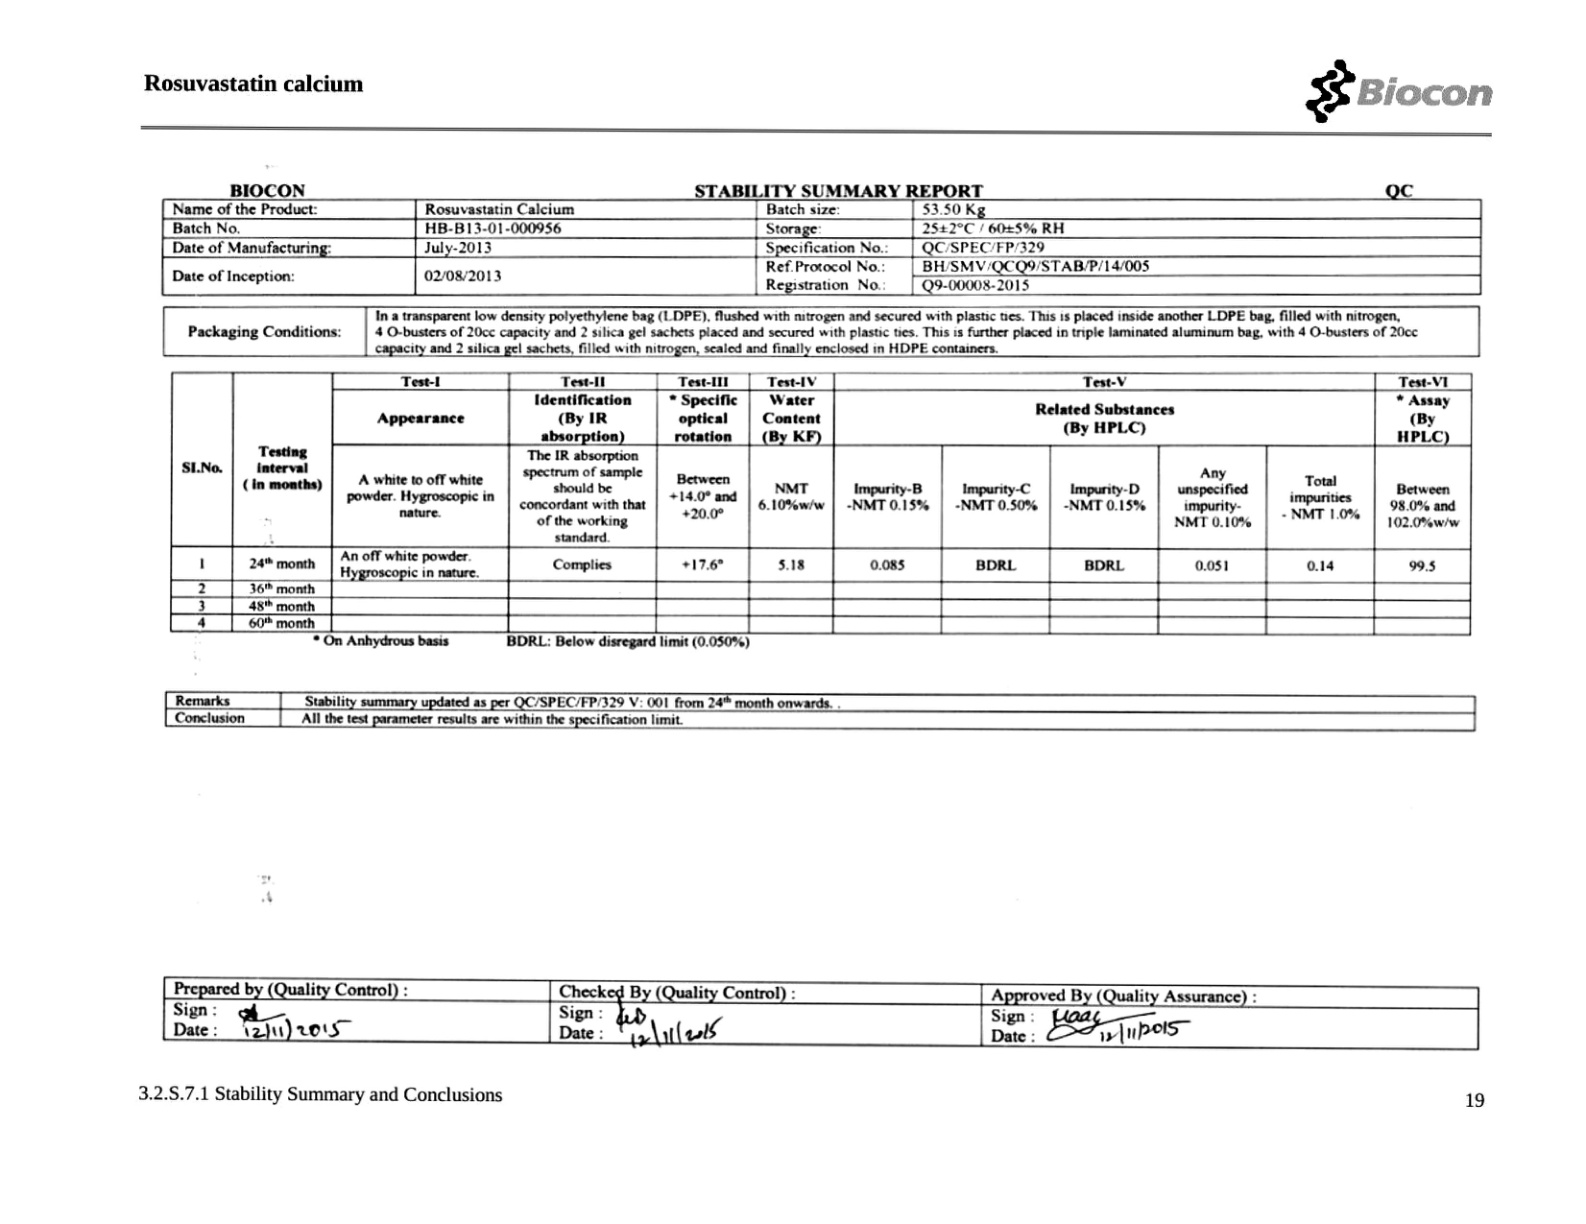full_lined: (159, 975, 1481, 1052), (159, 305, 1481, 359), (162, 689, 1475, 733)
merged_cells: (170, 369, 1472, 636), (159, 198, 1482, 296)
